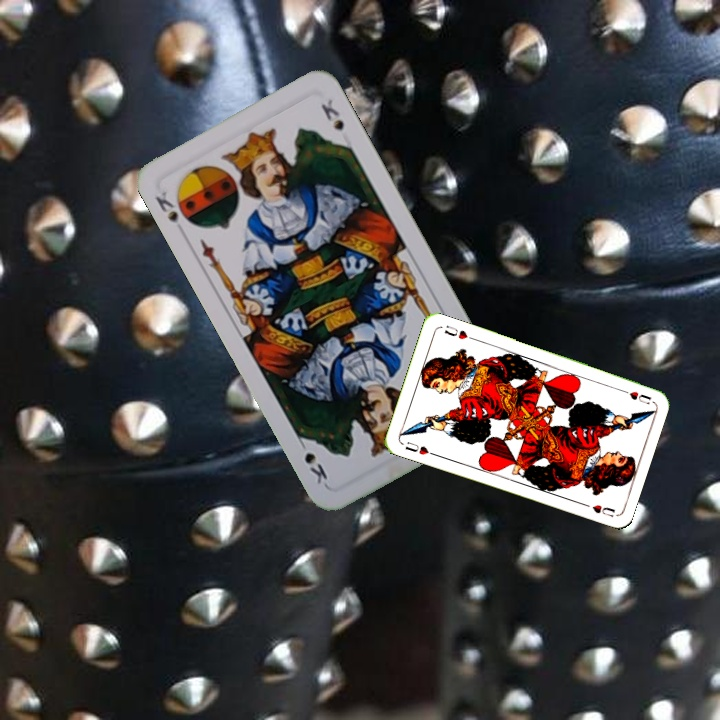HU: (615, 385, 654, 407), (401, 438, 438, 458)
SK: (151, 186, 189, 238)
